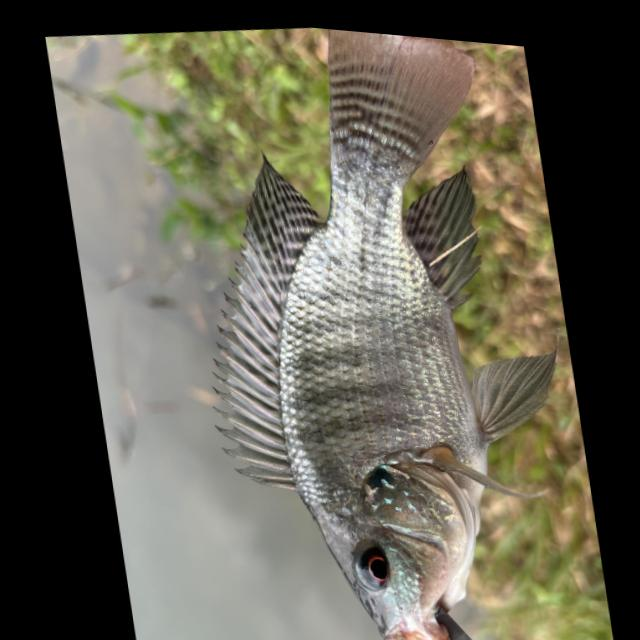Tilapia: (155, 14, 611, 640)
